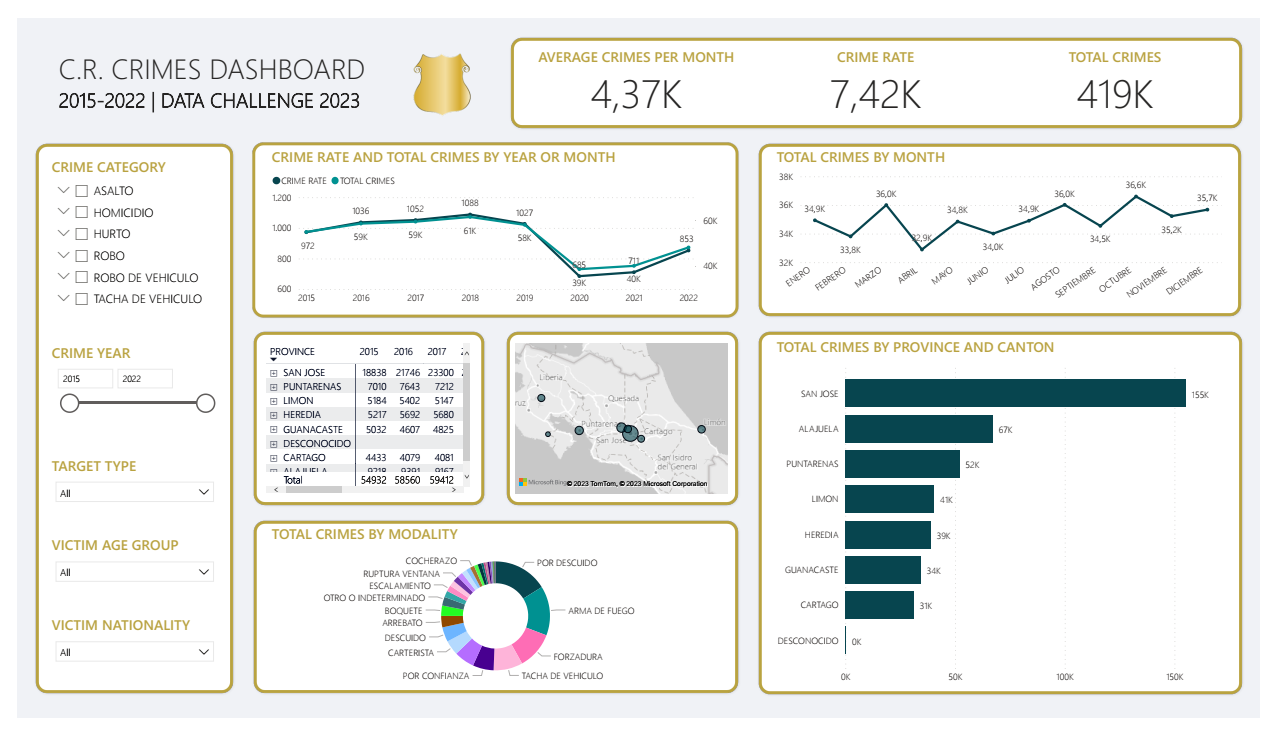

What the dashboard file says about the page in this screenshot:
{"tool":"powerbi","page":{"name":"Crimes Dashboard","canvas":[1664,936],"ordinal":1},"visuals":[{"type":"shape","box":[656,22,988,130],"z":0,"group":"g1"},{"type":"shape","box":[29.7,23.3,625,130],"z":0},{"type":"shape","box":[20,164,272,744],"z":0,"group":"g6"},{"type":"shape","box":[312,164,656,240],"z":0,"group":"g5"},{"type":"shape","box":[988,164,655,240],"z":0,"group":"g4"},{"type":"shape","box":[312,416,657.7,240],"z":0,"group":"g3"},{"type":"shape","box":[988,416,656,493],"z":0,"group":"g7"},{"type":"shape","box":[316.7,668.3,318,240],"z":0,"group":"g2"},{"type":"shape","box":[650,668.3,318,240],"z":0,"group":"g8"},{"type":"textbox","box":[50,38,578,100],"z":1000},{"type":"card","title":"TOTAL CRIMES","fields":{"Values":["_Measures.TotalCrimes"]},"box":[1323.9,39.3,293.7,95.3],"z":1000,"group":"g1"},{"type":"lineChart","title":"CRIME RATE BY YEAR","fields":{"Category":["DC23.DATE.Variation.Jerarquía de fechas.Año"],"Y":["_Measures.CrimeRate"]},"box":[336.3,174,607.4,220],"z":1000,"group":"g5"},{"type":"lineChart","title":"TOTAL CRIMES BY MONTH","fields":{"Category":["DC23.DATE.Variation.Jerarquía de fechas.Mes"],"Y":["_Measures.TotalCrimes"]},"box":[1012.3,174,606.5,220],"z":1000,"group":"g4"},{"type":"slicer","title":"CRIME CATEGORY","fields":{"Values":["DC23.CATEGORY"]},"box":[40.1,185.3,231.7,230.9],"z":1000,"group":"g6"},{"type":"donutChart","title":"TOTAL CRIMES BY MODALITY","fields":{"Y":["_Measures.TotalCrimes"],"Category":["DC23.MODALITY"]},"box":[336.4,426,609,220],"z":1000,"group":"g3"},{"type":"treemap","title":"TOTAL CRIMES BY PROVINCE AND CANTON","fields":{"Group":["DC23.PROVINCE"],"Values":["_Measures.TotalCrimes"],"Details":["DC23.CANTON"]},"box":[1012.3,426.6,607.4,473.1],"z":1000,"group":"g7"},{"type":"pivotTable","fields":{"Columns":["DC23.DATE.Variation.Jerarquía de fechas.Año"],"Rows":["DC23.PROVINCE","DC23.CANTON"],"Values":["_Measures.TotalCrimes"]},"box":[328.5,678.3,294.4,220],"z":1000,"group":"g2"},{"type":"map","title":"Total Crimes by Region","fields":{"Size":["_Measures.TotalCrimes"],"Category":["DC23.Region","DC23.CANTON"]},"box":[661.8,678.3,294.4,220],"z":1000,"group":"g8"},{"type":"group","id":"g1","title":"Group 1","box":[656,22,988,130],"z":2000},{"type":"card","title":"AVERAGE CRIMES PER MONTH","fields":{"Values":["_Measures.AvgPerMonth"]},"box":[682.7,39.3,293.7,95.3],"z":2000,"group":"g1"},{"type":"slicer","title":"CRIME YEAR","fields":{"Values":["DC23.DATE.Variation.Jerarquía de fechas.Año"]},"box":[40.1,435.3,231.7,131.3],"z":2000,"group":"g6"},{"type":"card","title":"CRIME RATE","fields":{"Values":["_Measures.CrimeRate"]},"box":[1003.3,38.2,293.7,95.3],"z":3000,"group":"g1"},{"type":"slicer","title":"VICTIM AGE","fields":{"Values":["DC23.AGE_CATEGORY"]},"box":[40.1,585.8,231.7,87.5],"z":3000,"group":"g6"},{"type":"group","id":"g2","title":"Group 2","box":[316.7,668.3,318,240],"z":3000},{"type":"group","id":"g3","title":"Group 3","box":[312,416,656,240],"z":4000},{"type":"slicer","title":"VICTIM TYPE","fields":{"Values":["DC23.TARGET_TYPE"]},"box":[40.1,692.5,231.7,87.5],"z":4000,"group":"g6"},{"type":"group","id":"g4","title":"Group 4","box":[988,164,656,240],"z":5000},{"type":"slicer","title":"VICTIM NATIONALITY","fields":{"Values":["DC23.NATIONALITY"]},"box":[40.1,799.1,231.7,87.5],"z":5000,"group":"g6"},{"type":"group","id":"g5","title":"Group 5","box":[312,164,656,240],"z":6000},{"type":"group","id":"g6","title":"Group 6","box":[20,164,272,744],"z":7000},{"type":"group","id":"g7","title":"Group 7","box":[988,416,656,492],"z":8000},{"type":"group","id":"g8","title":"Group 2","box":[650,668.3,318.3,240],"z":9000}]}

Visuals, with their boxes in screenshot pixels (x1, y1, x2, y2), scaled from the page's 1664x936 canvas onto the 1280x736 screenshot:
shape: (left=505, top=17, right=1265, bottom=120)
shape: (left=23, top=18, right=504, bottom=121)
shape: (left=15, top=129, right=225, bottom=714)
shape: (left=240, top=129, right=745, bottom=318)
shape: (left=760, top=129, right=1264, bottom=318)
shape: (left=240, top=327, right=746, bottom=516)
shape: (left=760, top=327, right=1265, bottom=715)
shape: (left=244, top=526, right=488, bottom=714)
shape: (left=500, top=526, right=745, bottom=714)
textbox: (left=38, top=30, right=483, bottom=109)
"TOTAL CRIMES" card: (left=1018, top=31, right=1244, bottom=106)
"CRIME RATE BY YEAR" lineChart: (left=259, top=137, right=726, bottom=310)
"TOTAL CRIMES BY MONTH" lineChart: (left=779, top=137, right=1245, bottom=310)
"CRIME CATEGORY" slicer: (left=31, top=146, right=209, bottom=327)
"TOTAL CRIMES BY MODALITY" donutChart: (left=259, top=335, right=727, bottom=508)
"TOTAL CRIMES BY PROVINCE AND CANTON" treemap: (left=779, top=335, right=1246, bottom=707)
pivotTable - DC23.DATE.Variation.Jerarquía de fechas.Año x DC23.PROVINCE: (left=253, top=533, right=479, bottom=706)
"Total Crimes by Region" map: (left=509, top=533, right=736, bottom=706)
"Group 1" group: (left=505, top=17, right=1265, bottom=120)
"AVERAGE CRIMES PER MONTH" card: (left=525, top=31, right=751, bottom=106)
"CRIME YEAR" slicer: (left=31, top=342, right=209, bottom=446)
"CRIME RATE" card: (left=772, top=30, right=998, bottom=105)
"VICTIM AGE" slicer: (left=31, top=461, right=209, bottom=529)
"Group 2" group: (left=244, top=526, right=488, bottom=714)
"Group 3" group: (left=240, top=327, right=745, bottom=516)
"VICTIM TYPE" slicer: (left=31, top=545, right=209, bottom=613)
"Group 4" group: (left=760, top=129, right=1265, bottom=318)
"VICTIM NATIONALITY" slicer: (left=31, top=628, right=209, bottom=697)
"Group 5" group: (left=240, top=129, right=745, bottom=318)
"Group 6" group: (left=15, top=129, right=225, bottom=714)
"Group 7" group: (left=760, top=327, right=1265, bottom=714)
"Group 2" group: (left=500, top=526, right=745, bottom=714)
